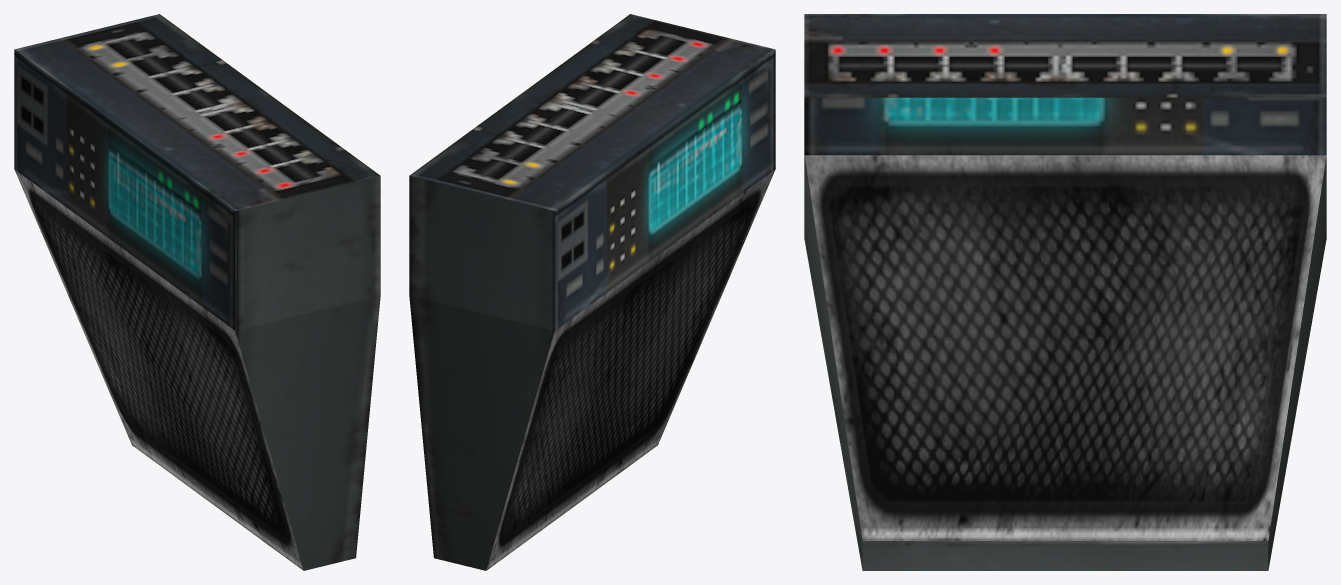
Rendered from WallPanel_01.fbx.
3 views of the same model, side by side, from view 1: azimuth 30°, elevation 25°; view 2: azimuth 150°, elevation 25°; view 3: azimuth 270°, elevation 25° (orthographic). The views are drawn at different scales.
Visible parts, largest first — view 1: WallPanel_01; view 2: WallPanel_01; view 3: WallPanel_01.
Boxes of the visible parts, x1,y1,x2,y2 form: WallPanel_01: [14, 14, 380, 570]; WallPanel_01: [409, 14, 775, 570]; WallPanel_01: [804, 14, 1326, 570].
Bounding box in the file's own units: 16.09 × 42.35 × 42.35.
